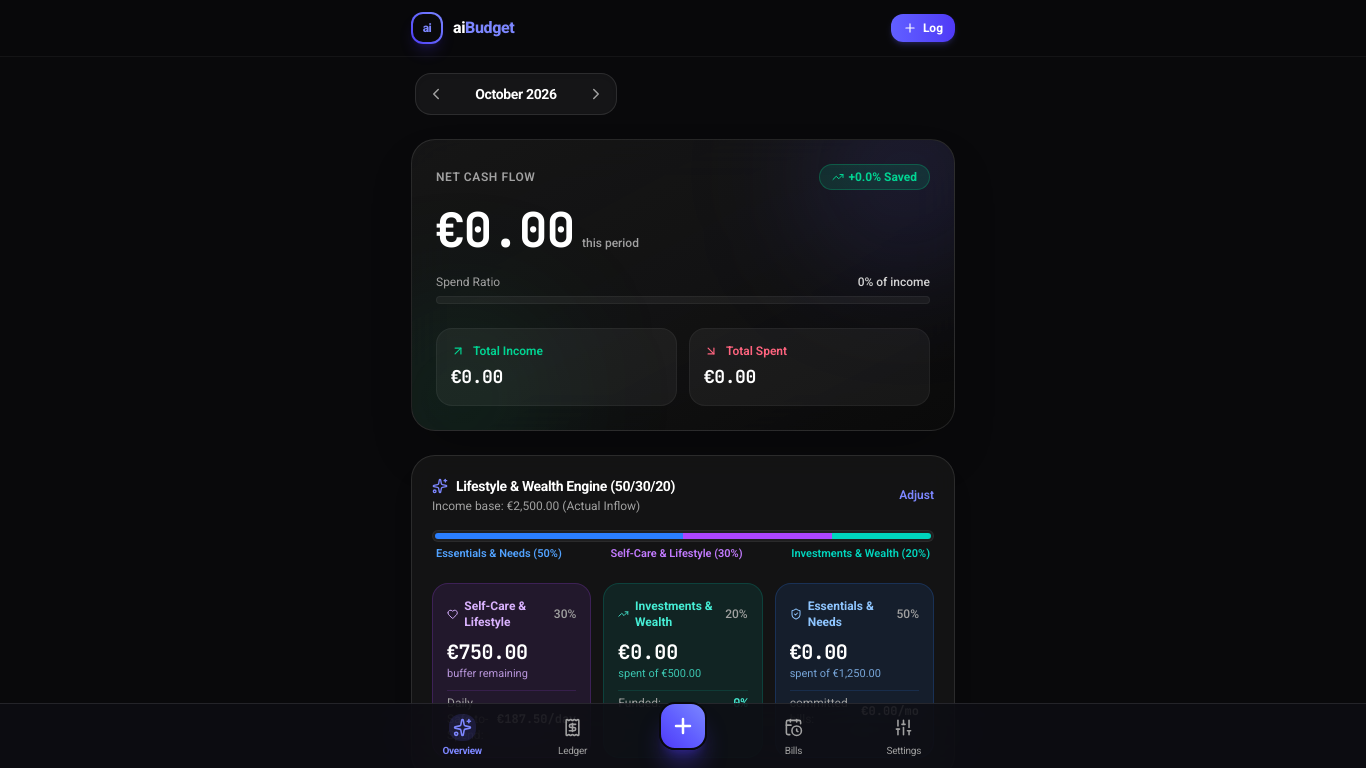
Test: Flow 4: Recurring Bills & Mark as Paid Automation › shows a unified empty state when no bills exist at all
The width and height of the screenshot is (1366, 768).
Check: the text "Net Cash Flow" is shown, box [436, 169, 535, 185]
Click the button "Bills" at (793, 736), box [738, 710, 849, 762]
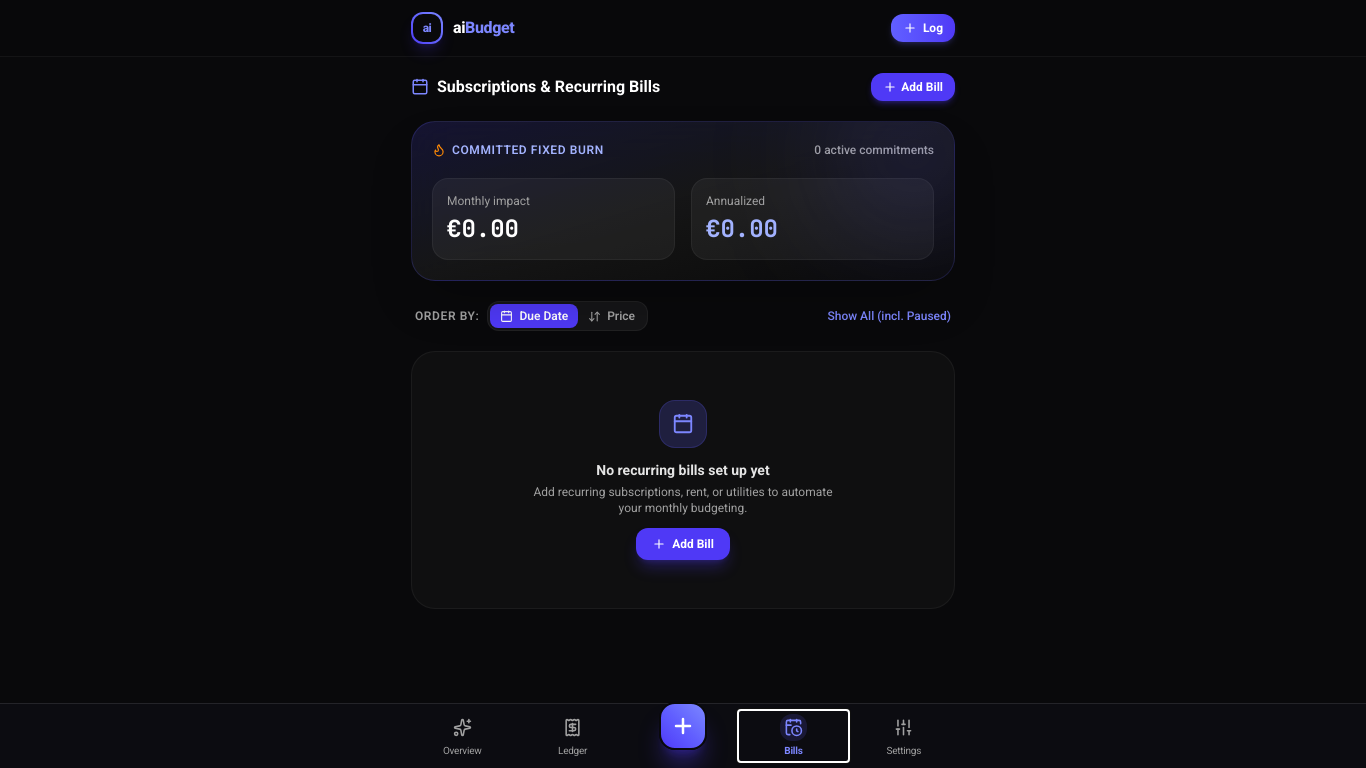
Check: the heading "Subscriptions & Recurring Bills" is shown, box [411, 75, 660, 99]
Check: the text "No recurring bills set up yet" is shown, box [596, 462, 770, 478]
